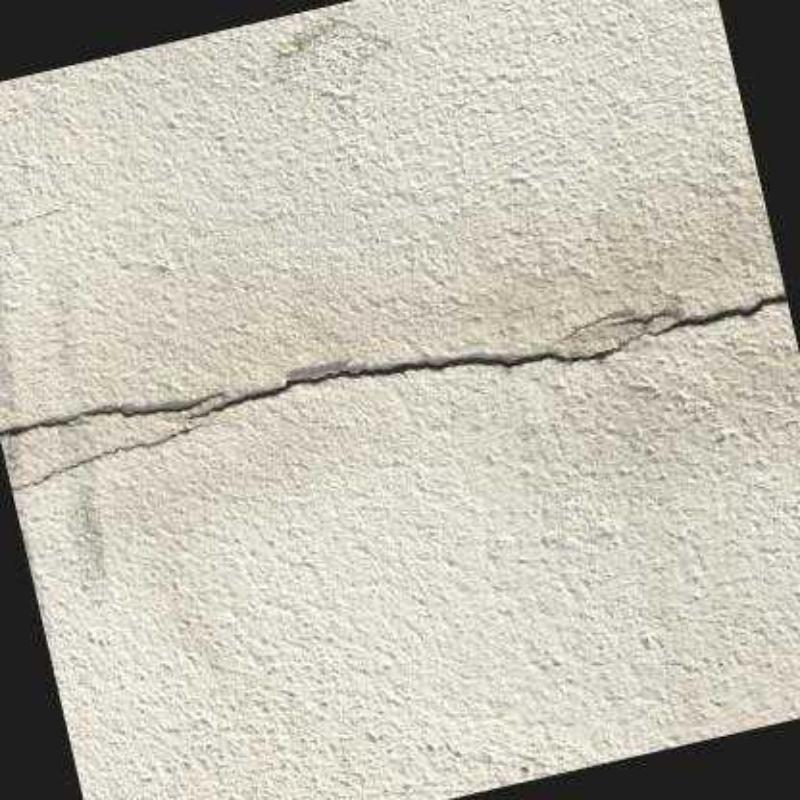pothole: (190, 357, 496, 420), (10, 422, 216, 491), (0, 393, 220, 437), (648, 296, 788, 337), (492, 340, 627, 367)
